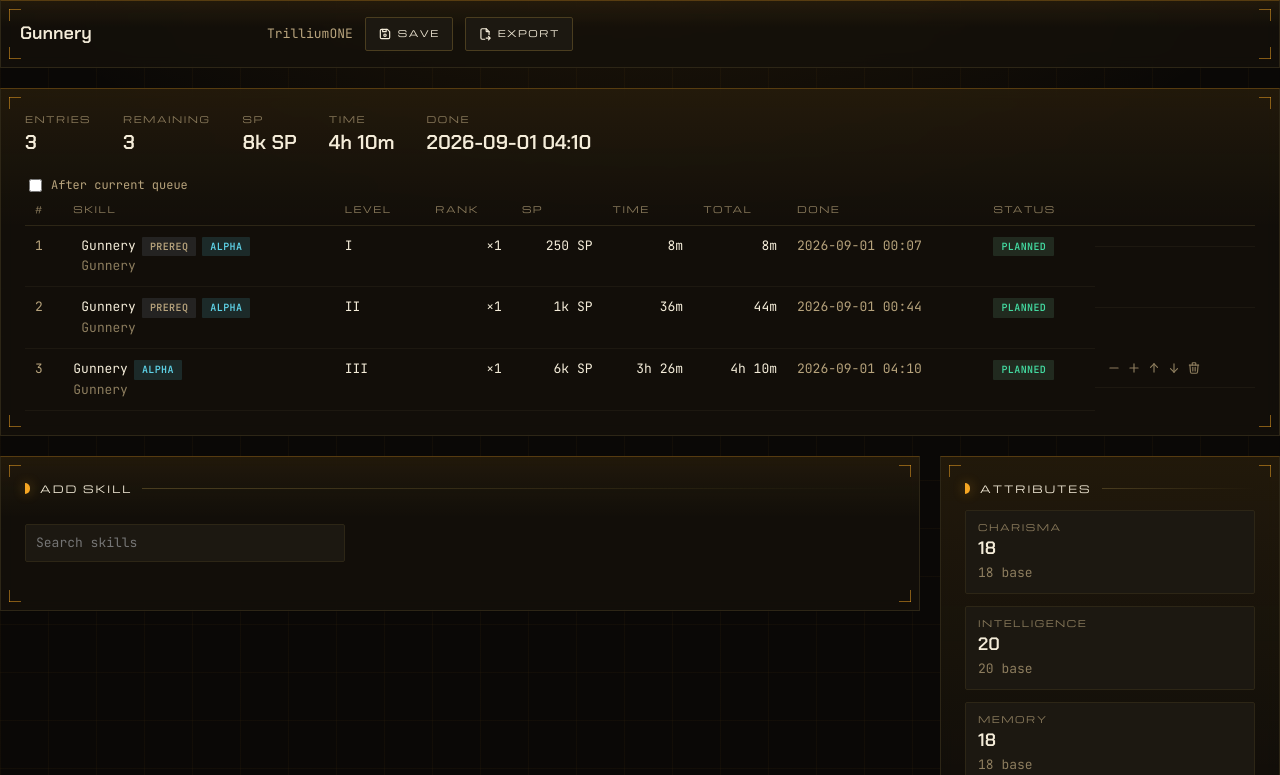
Test: PlanEditor › removes and re-levels a stored entry
Step 1. Click the button named "Raise Gunnery III" → (1134, 368), box [1125, 358, 1143, 376]
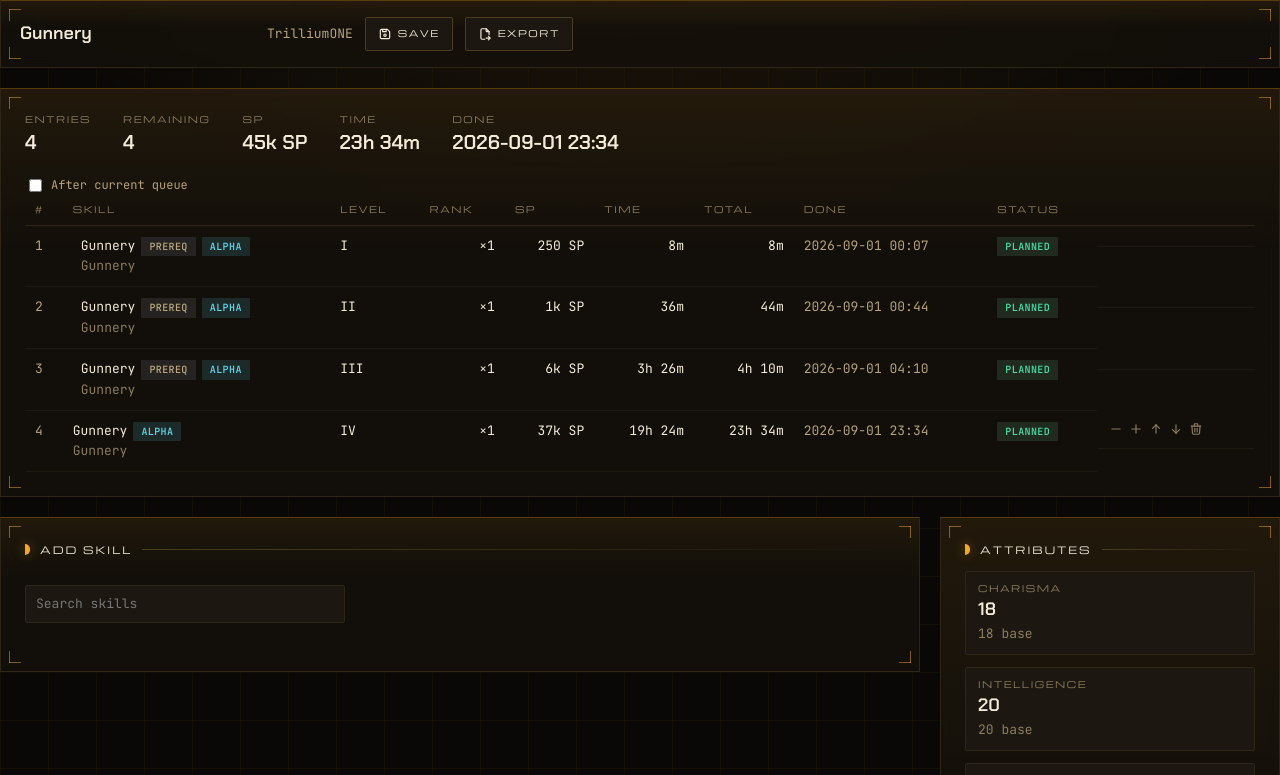
Expected: the number of rows is 5, [25, 195, 1255, 225]; [25, 225, 1255, 287]; [25, 287, 1255, 348]; [25, 348, 1255, 410]; [25, 410, 1255, 472]
Step 2. Click the button named "Remove Gunnery IV" → (1196, 429), box [1187, 420, 1205, 438]
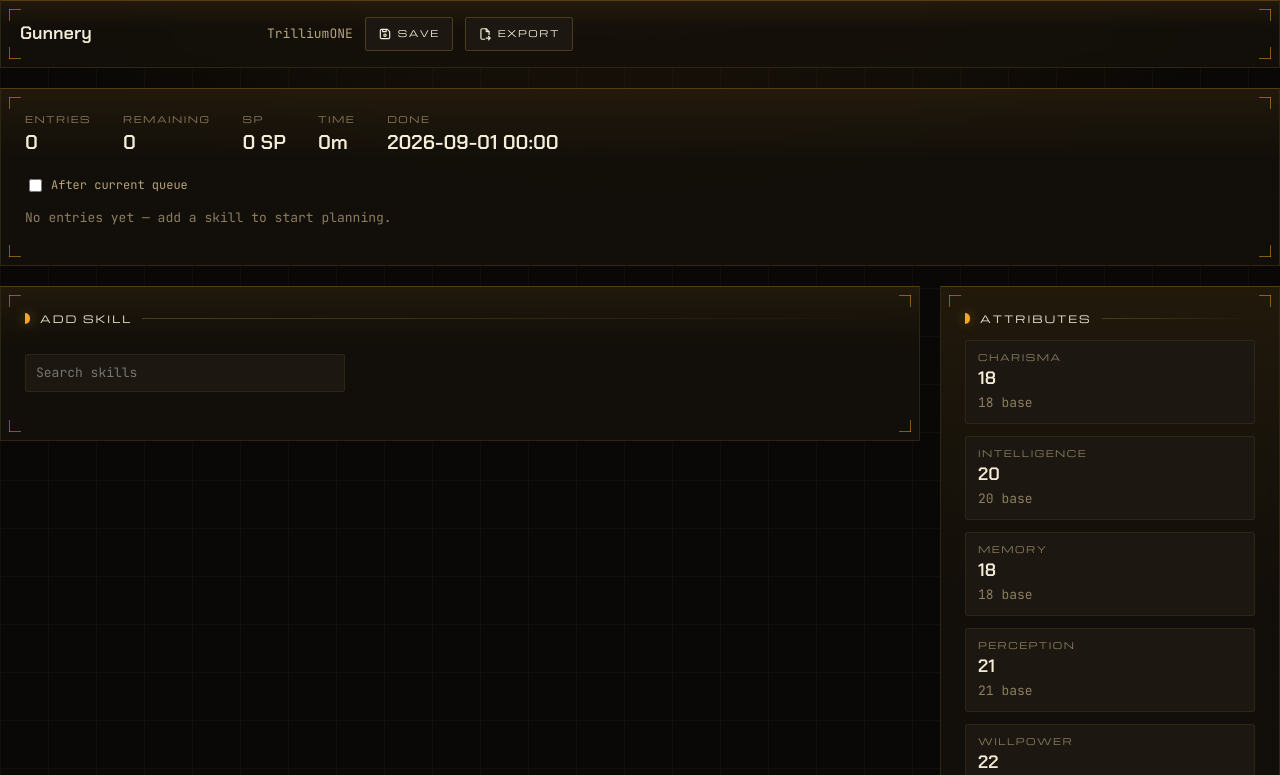
Now the text "No entries yet — add a skill to start planning." is shown, box [25, 209, 392, 226]
